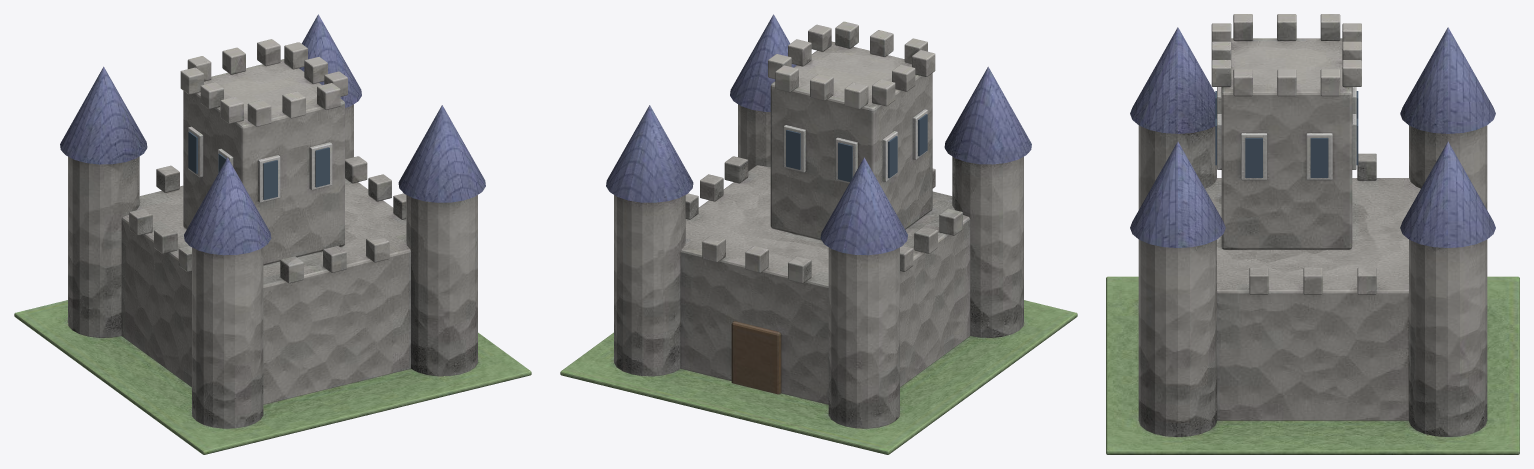
Rendered from burg.glb.
The picture shows the model from 3 angles, left to right: view 1: azimuth 30°, elevation 25°; view 2: azimuth 150°, elevation 25°; view 3: azimuth 270°, elevation 25°; orthographic projection. The views are drawn at different scales.
Parts seen in each view (by area): view 1: burg, burg_details; view 2: burg, burg_details; view 3: burg, burg_details.
Part boxes in pixels (x1,y1,x2,y2): burg: [14, 14, 531, 454]; burg_details: [188, 131, 329, 199]; burg: [560, 14, 1077, 454]; burg_details: [786, 114, 927, 181]; burg: [1106, 14, 1519, 454]; burg_details: [1215, 91, 1358, 177].
Bounding box in the file's own units: 0.95 × 0.79 × 0.95.
Materials: 2 (1 with a texture image).
